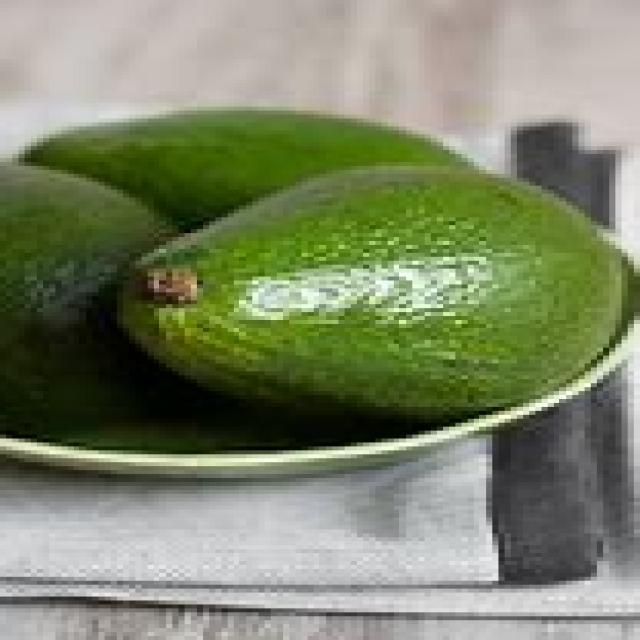avocado: (109, 160, 631, 433)
